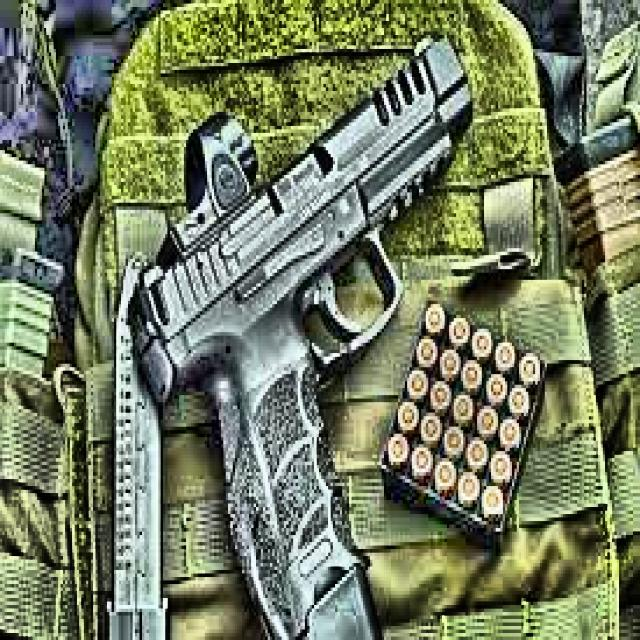HKVP9: (124, 35, 472, 640)
